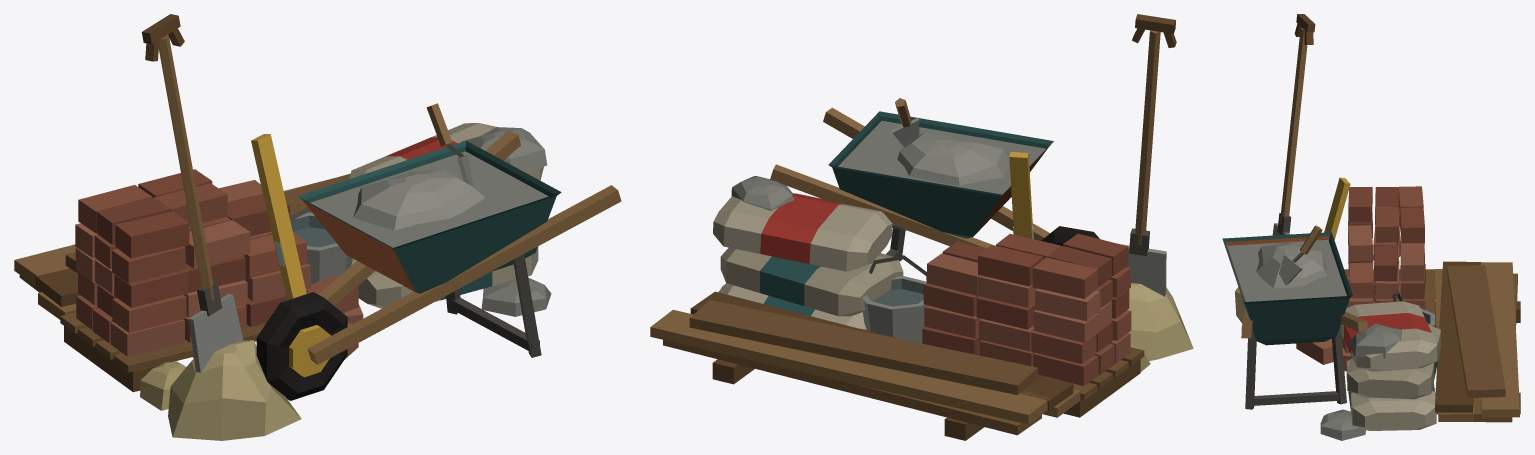
The model's file is estacao_muros.glb.
3 renders of one model, left to right at view 1: azimuth 30°, elevation 25°; view 2: azimuth 150°, elevation 25°; view 3: azimuth 270°, elevation 25°, orthographic. The views are drawn at different scales.
Visible parts, largest first — view 1: estacao_muros.001; view 2: estacao_muros.001; view 3: estacao_muros.001.
Part boxes in pixels (x1,y1,x2,y2): estacao_muros.001: (14,14,621,440); estacao_muros.001: (650,14,1193,440); estacao_muros.001: (1222,14,1520,440).
Size of the model in its own units: 1.5 by 1.25 by 1.22.
